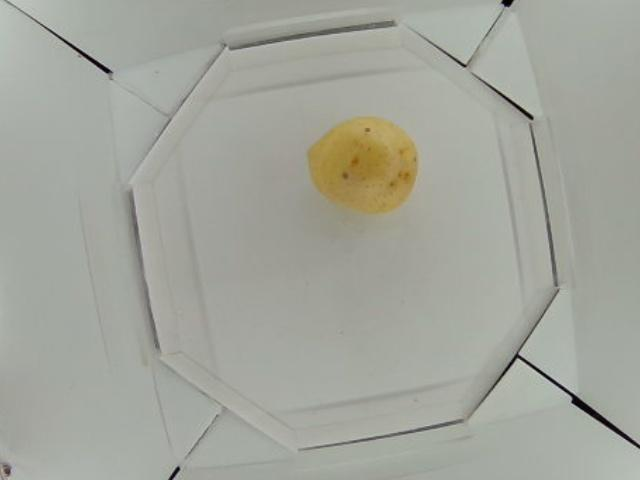Potato: (305, 118, 416, 213)
